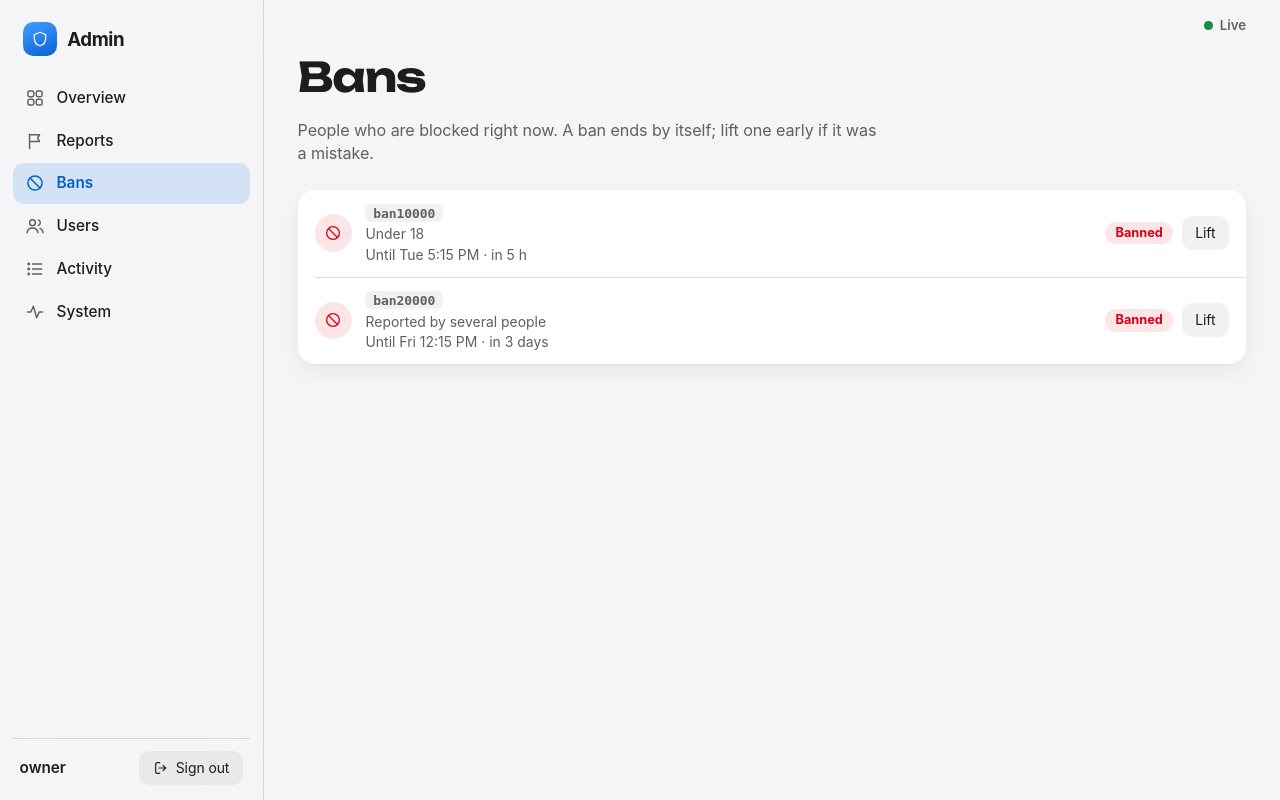
Test case: bans › lifts a ban at once and offers Undo, which puts it back
Click the button with aria-label "Lift ban on ban10000". click: x=1205, y=233
box: [1182,216,1229,250]
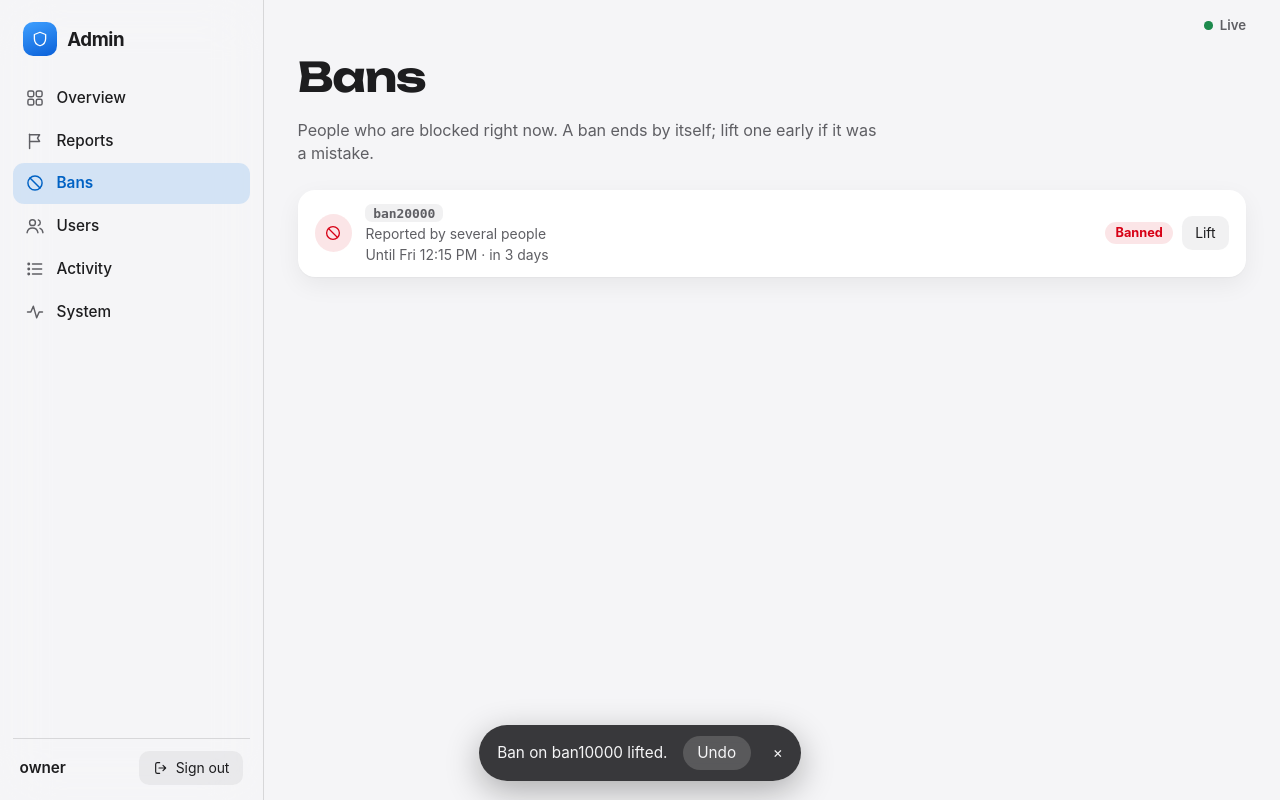
Expected: the text "Ban on ban10000 lifted." is shown, [497,742,667,764]
Expected: the number of list items is 1, [298,190,1246,277]
Click the button "Undo". click: x=717, y=753
box: [683,736,750,770]
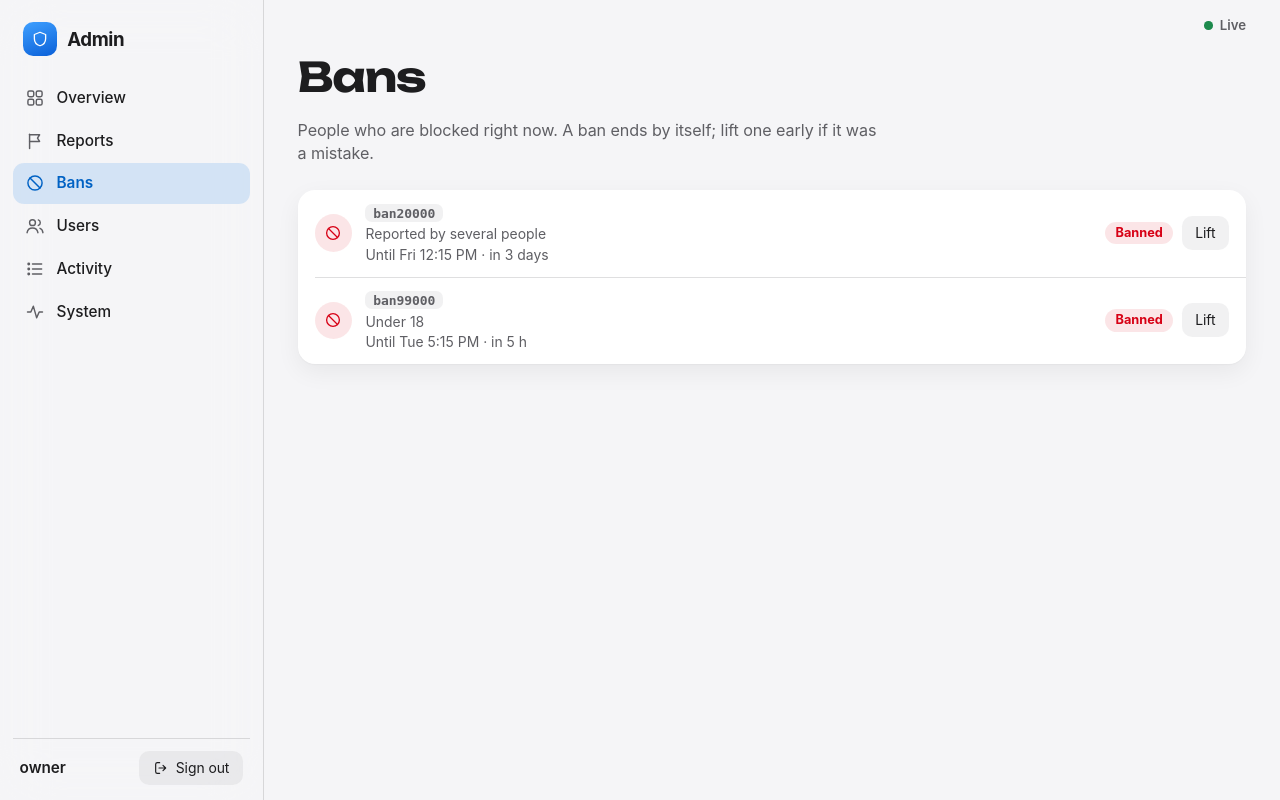
Expected: the number of list items is 2, [298,190,1246,277]; [298,277,1246,364]
